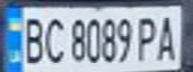0: (84, 13, 103, 64)
8: (66, 14, 87, 63), (100, 13, 118, 64)
9: (115, 14, 136, 63)
A: (154, 11, 181, 62)
B: (18, 12, 48, 65)
C: (42, 12, 69, 64)
P: (136, 12, 160, 63)
